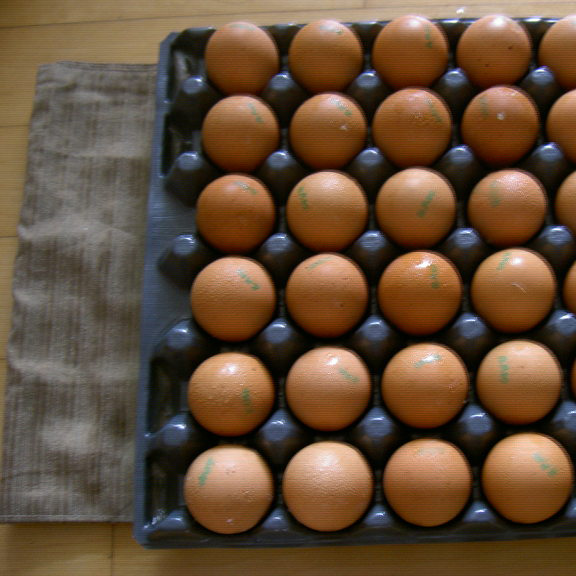egg: (181, 14, 576, 536)
